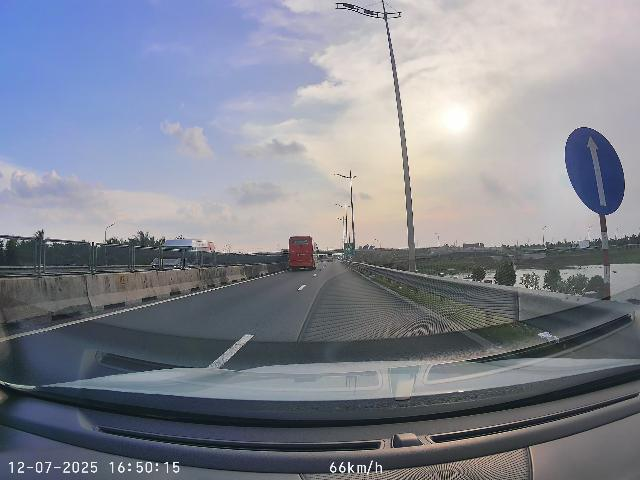301a-cac-xe-chi-duoc-di-thang: (564, 126, 626, 215)
